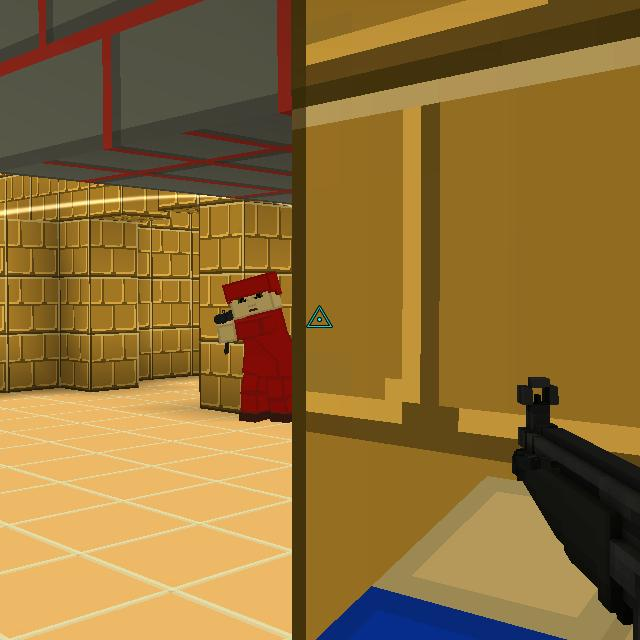enemy: (215, 269, 290, 425)
